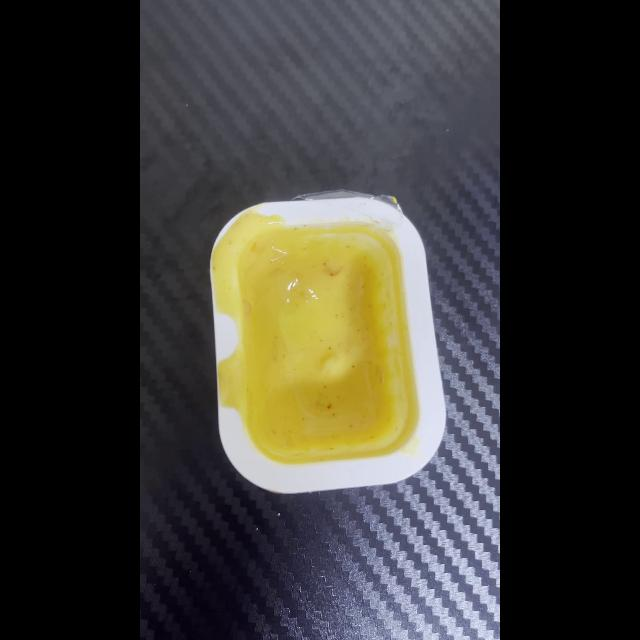dirty: (210, 196, 444, 488)
